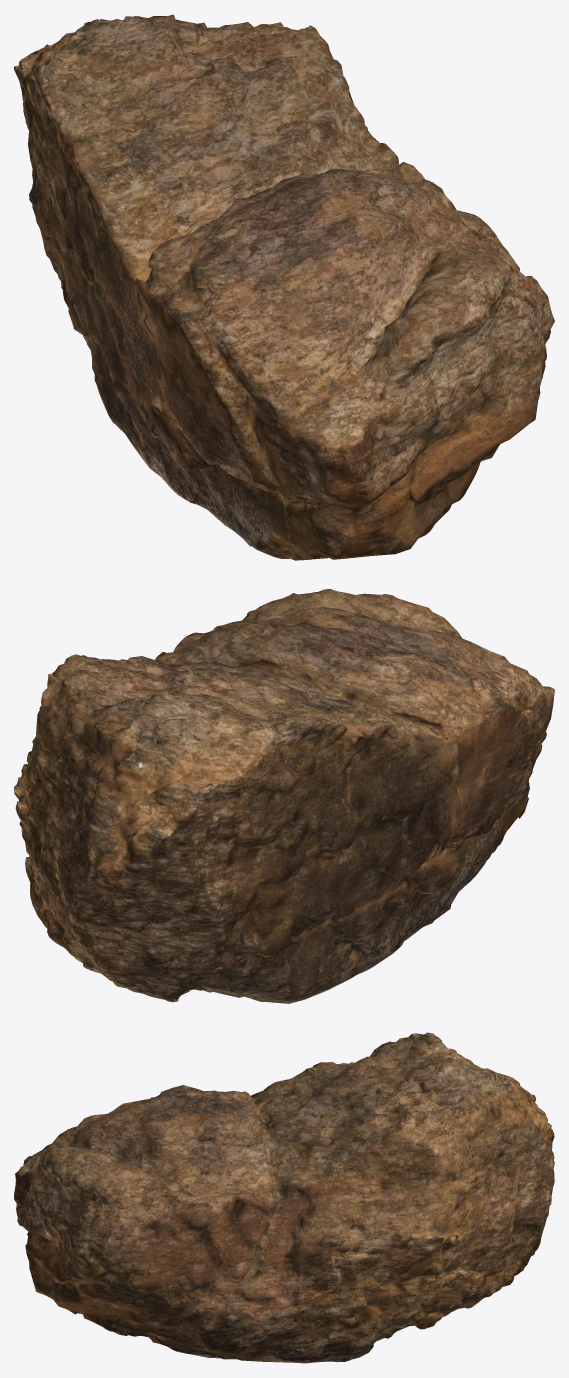
File: namaqualand_boulder_06.glb
3 renders of one model, top to bottom at view 1: azimuth 30°, elevation 25°; view 2: azimuth 150°, elevation 25°; view 3: azimuth 270°, elevation 25°, orthographic. The views are drawn at different scales.
Visible parts, largest first — view 1: namaqualand_boulder_06; view 2: namaqualand_boulder_06; view 3: namaqualand_boulder_06.
Boxes of the visible parts, x1=… form: namaqualand_boulder_06: x1=14, y1=14, x2=554, y2=560; namaqualand_boulder_06: x1=14, y1=589, x2=554, y2=1003; namaqualand_boulder_06: x1=14, y1=1032, x2=554, y2=1363.
Size of the model in its own units: 0.6747 by 0.6512 by 1.21.
1 material, 1 textured.
